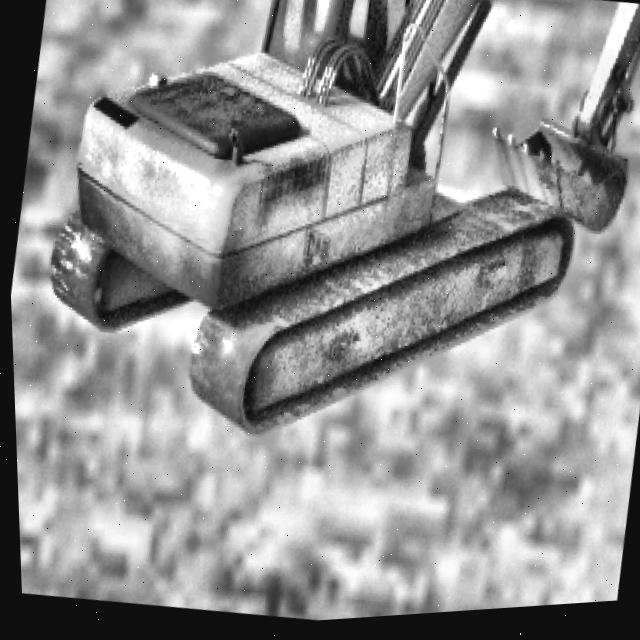excavator: (16, 0, 640, 506)
